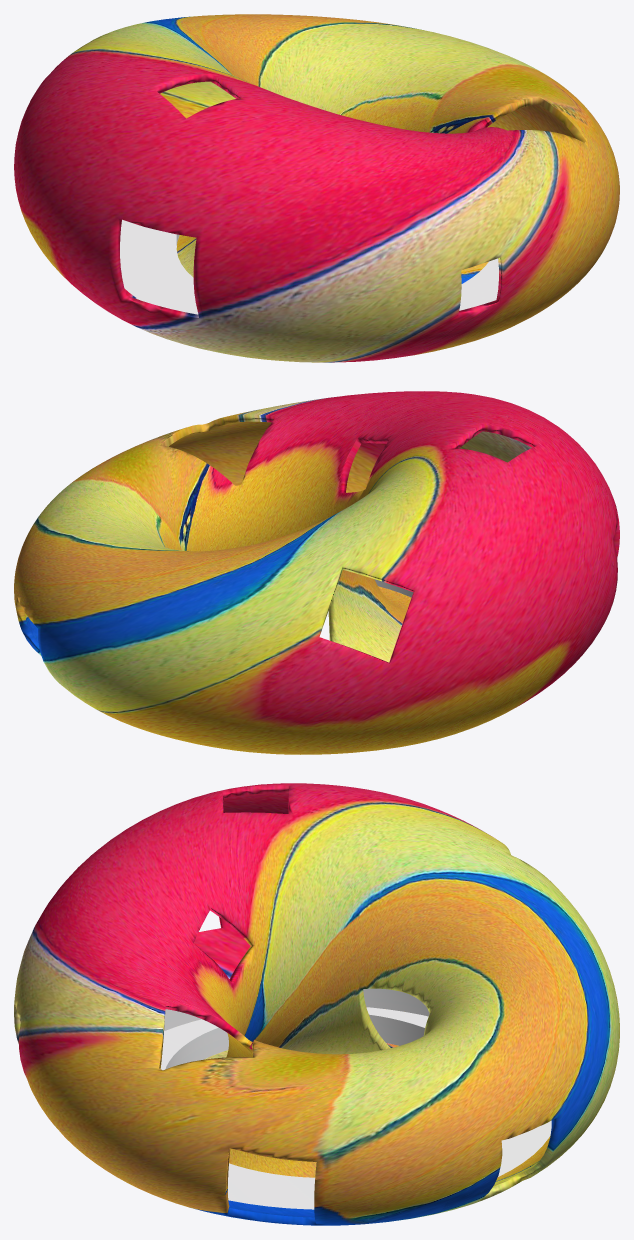
3 renders of one model, top to bottom at view 1: azimuth 30°, elevation 25°; view 2: azimuth 150°, elevation 25°; view 3: azimuth 270°, elevation 25°, orthographic. The views are drawn at different scales.
Parts seen in each view (by area): view 1: Solids, Ramps_2; view 2: Solids; view 3: Solids, Ramps_2, Ramps.
Part boxes in pixels (bbox=[...]): Solids: bbox=[14, 14, 619, 362]; Ramps_2: bbox=[120, 219, 498, 314]; Solids: bbox=[14, 391, 619, 754]; Solids: bbox=[14, 783, 619, 1225]; Ramps_2: bbox=[160, 1007, 551, 1209]; Ramps: bbox=[164, 988, 429, 1069].
Bounding box in the file's own units: 33.56 × 14.71 × 32.27.
Materials: 2 (2 with a texture image).
